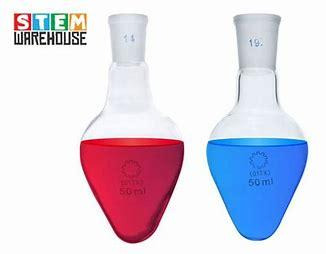Pear shaped flask: (203, 4, 318, 242), (81, 2, 186, 246)
